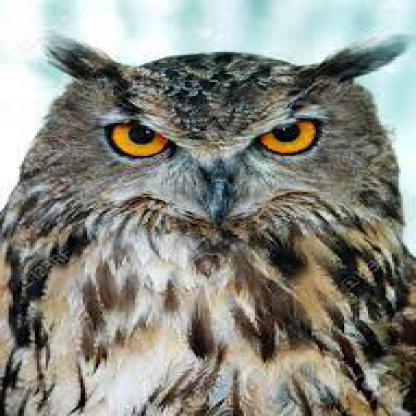owl: (11, 18, 414, 414)
